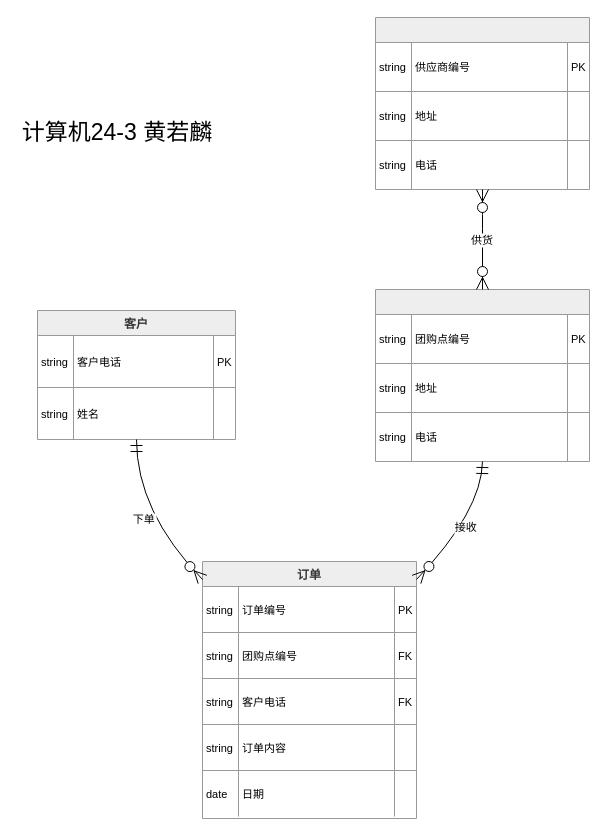
Image size: 607x836. Some labels were removed from this diagram. The shapes that lost their labels are listed below. From the top down, each one's box as (x1, y1, x2, y2) in pixels, then its label:
(374, 16, 590, 190): 蔬菜供应商
(374, 288, 590, 462): 社区团购点
